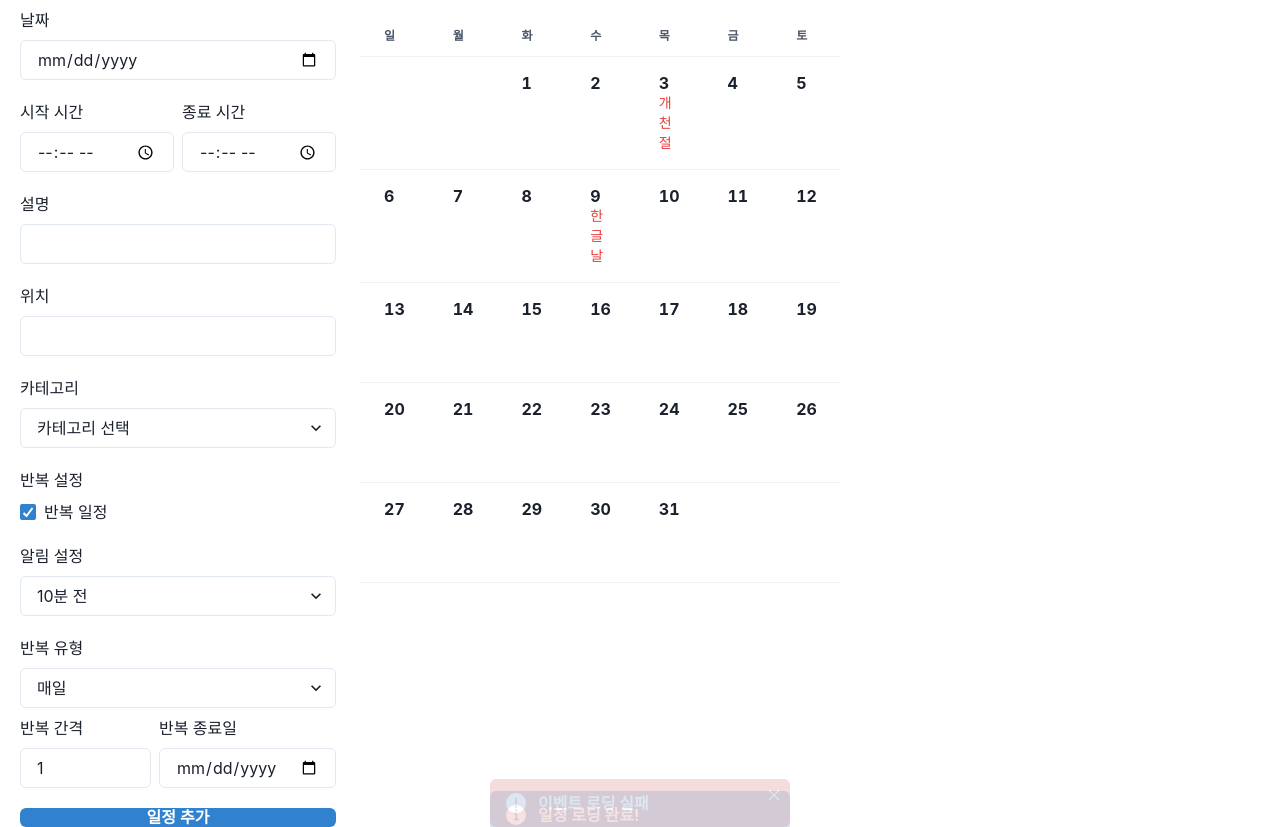
Test case: 일정 CRUD 및 기본 기능 › 제목, 날짜, 시작 시간, 종료 시간을 입력하지 않으면 "필수 정보를 모두 입력해주세요." 토스트 메시지가 표시된다.
(page scrolled)
Click the button "일정 추가" at (178, 818), box [20,808,336,826]
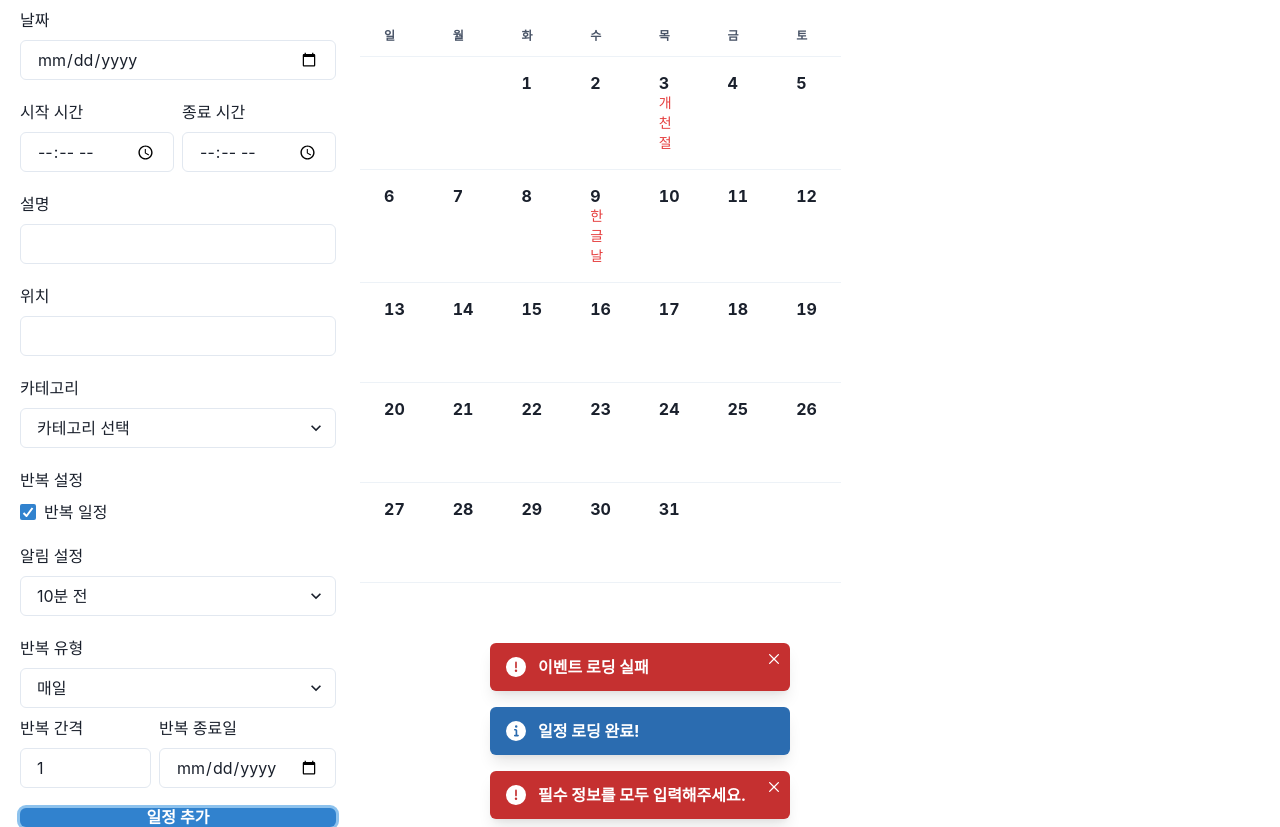
Check: the text "필수 정보를 모두 입력해주세요." is shown, box [538,783,750,807]
